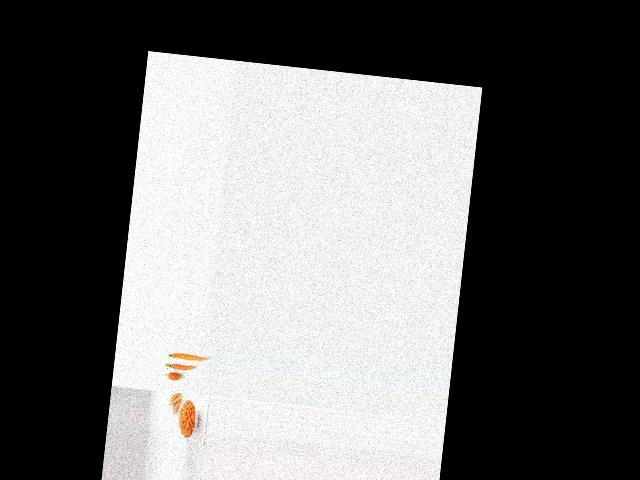carrot: (164, 372, 184, 382)
